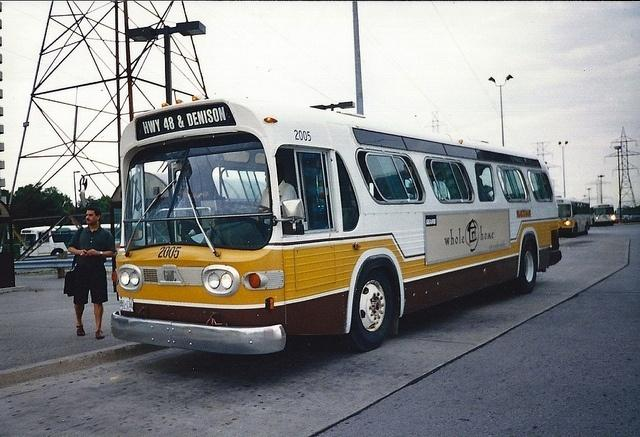car: (20, 225, 80, 258), (556, 198, 592, 237), (591, 205, 618, 226), (622, 212, 640, 222)
